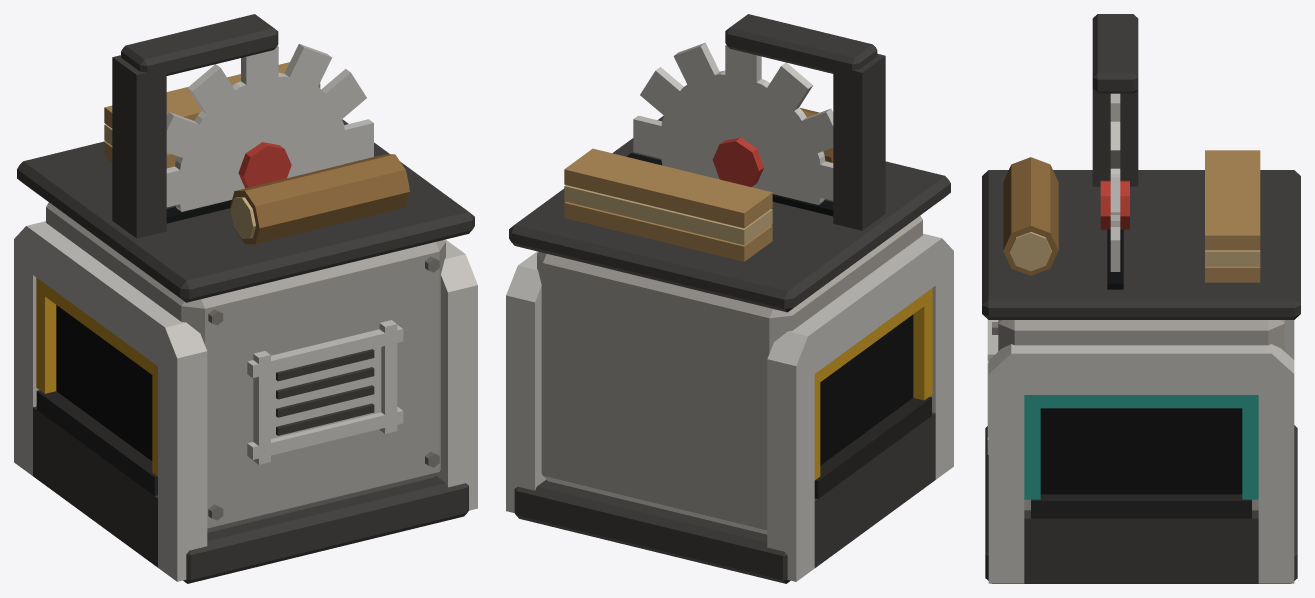
The model's file is sawmill.fbx.
3 renders of one model, left to right at view 1: azimuth 30°, elevation 25°; view 2: azimuth 150°, elevation 25°; view 3: azimuth 270°, elevation 25°, orthographic. The views are drawn at different scales.
Visible parts, largest first — view 1: sawmill; view 2: sawmill; view 3: sawmill.
Boxes of the visible parts, x1,y1,x2,y2 form: sawmill: [14, 14, 477, 583]; sawmill: [506, 14, 953, 583]; sawmill: [982, 14, 1300, 583].
Size of the model in its own units: 3 by 4.58 by 2.94.
